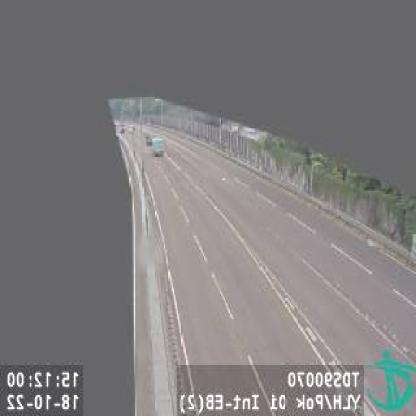Truck: (151, 135, 166, 158)
